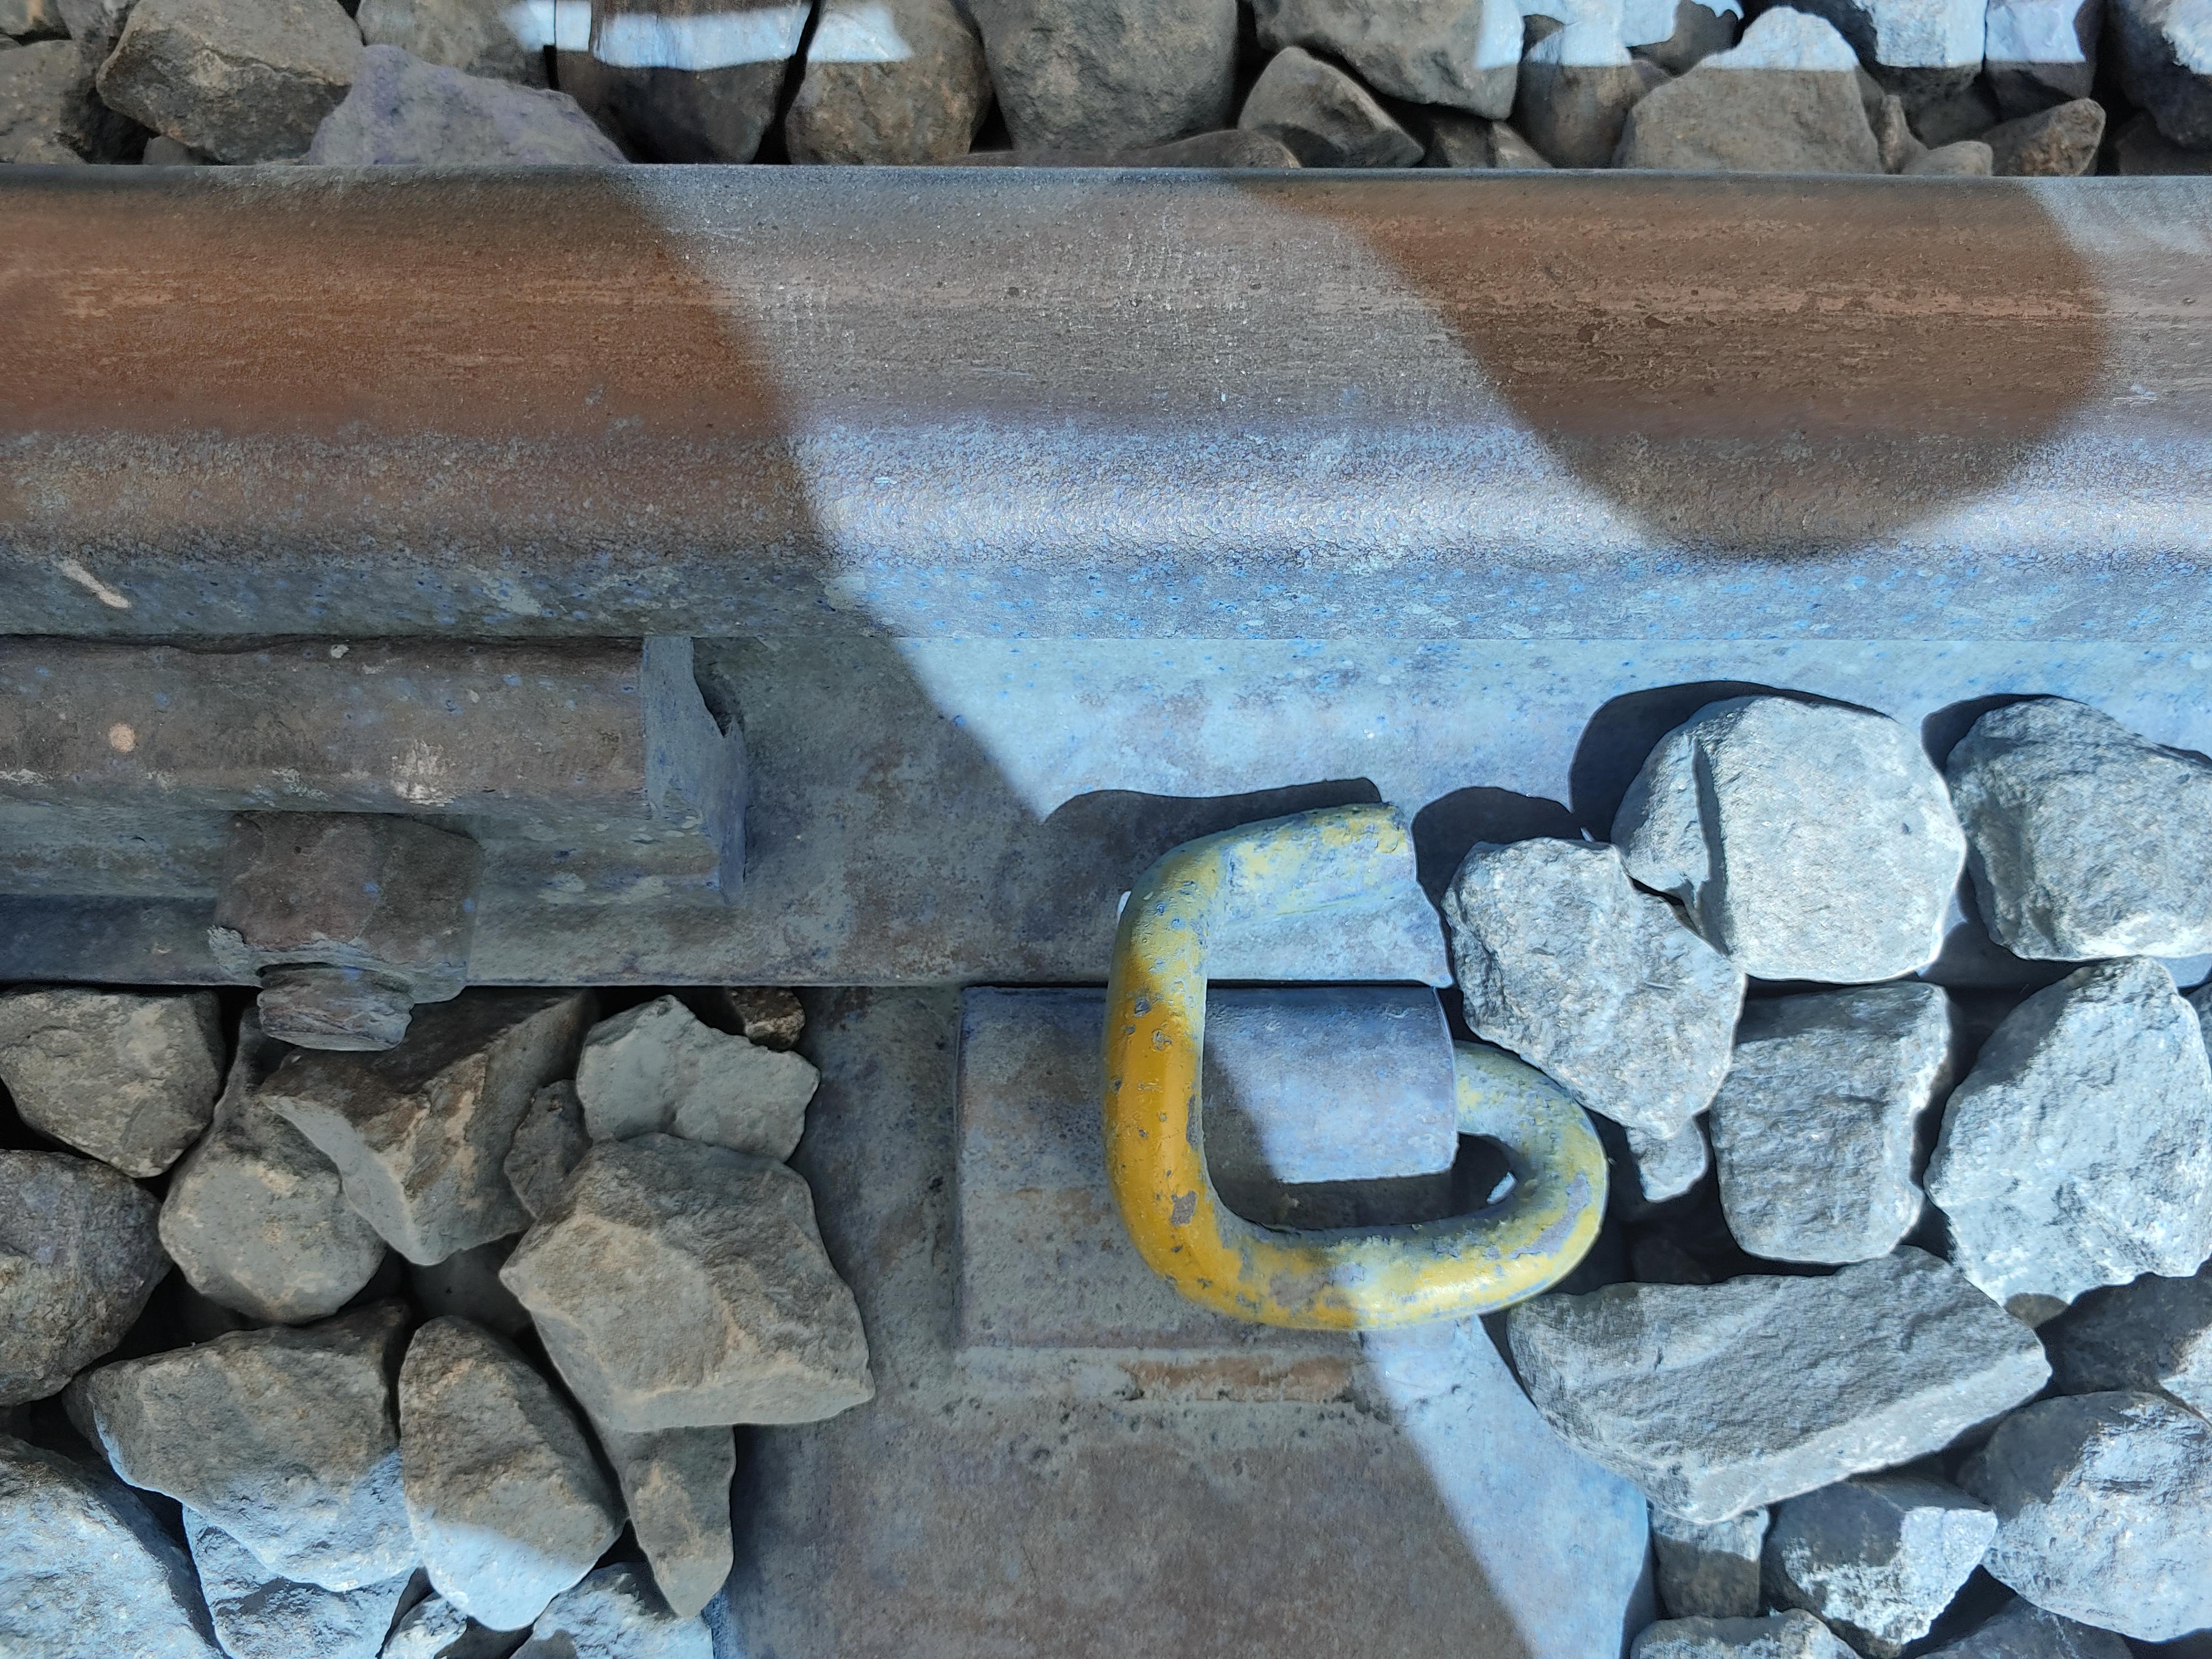error1: (951, 772, 1623, 1375)
